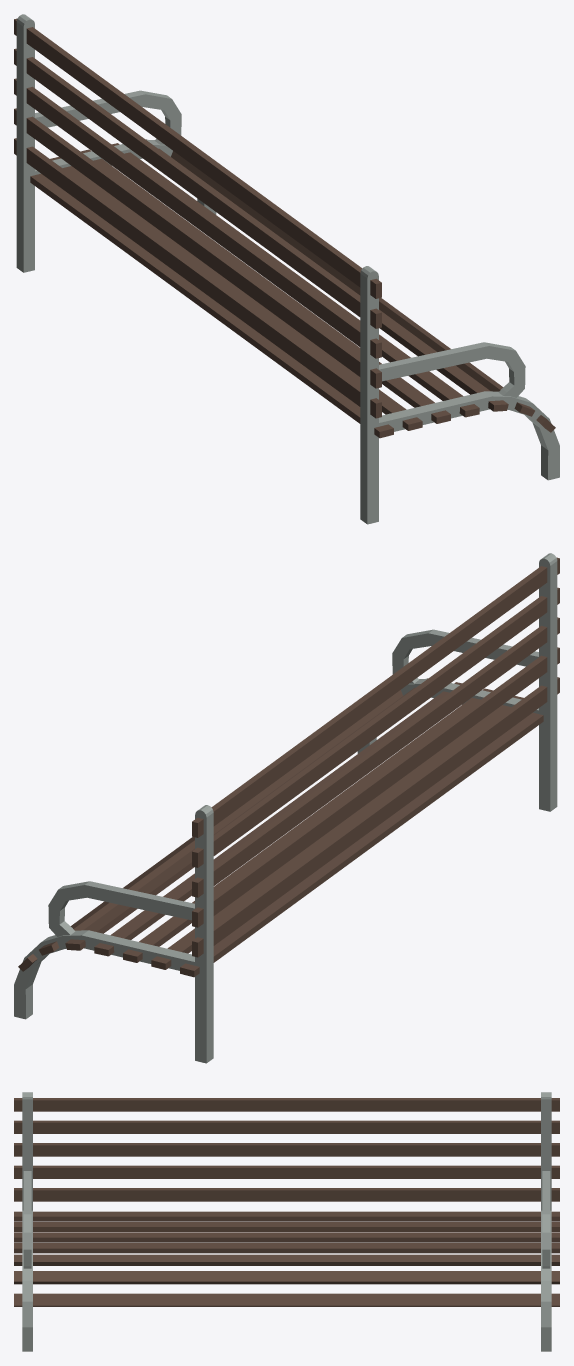
The model's file is bench.fbx.
3 views of the same model, one above another, from view 1: azimuth 30°, elevation 25°; view 2: azimuth 150°, elevation 25°; view 3: azimuth 270°, elevation 25° (orthographic). The views are drawn at different scales.
Parts seen in each view (by area): view 1: bench; view 2: bench; view 3: bench.
Part boxes in pixels (x1,y1,x2,y2): bench: [14, 14, 559, 524]; bench: [14, 553, 559, 1063]; bench: [14, 1092, 559, 1351].
Bounding box in the file's own units: 388 × 485 × 1263.
